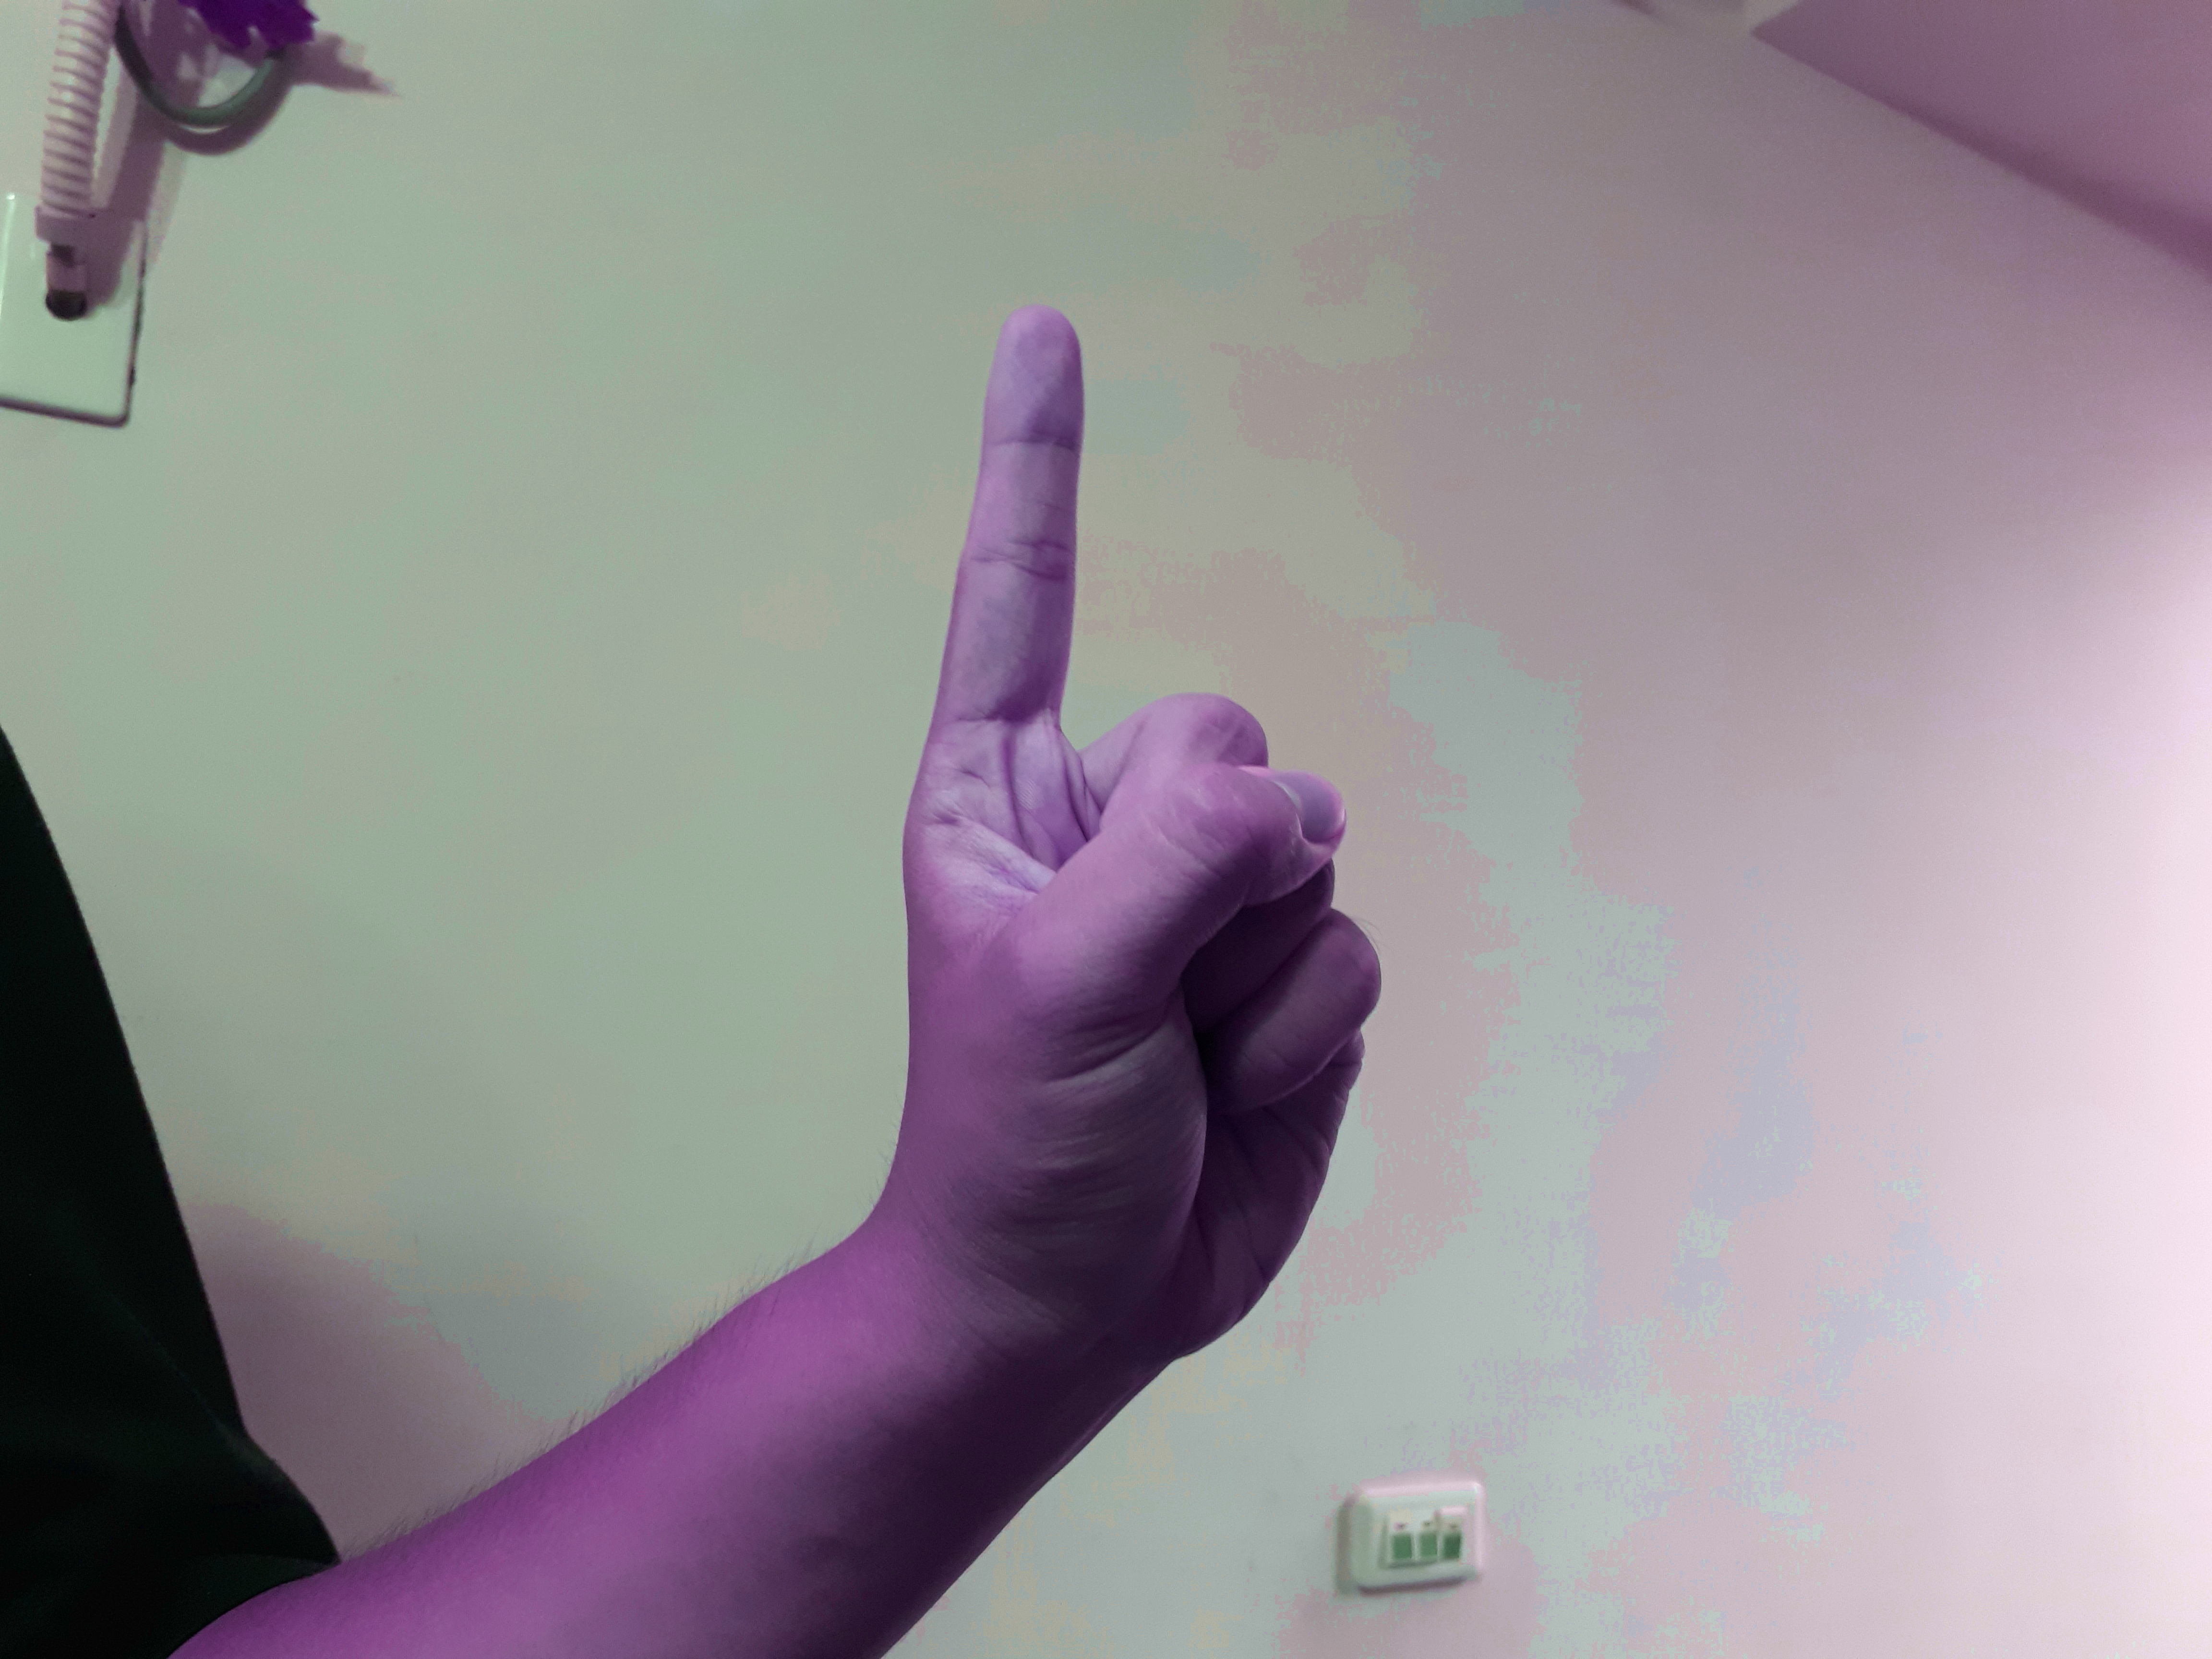up: (866, 275, 1386, 1382)
